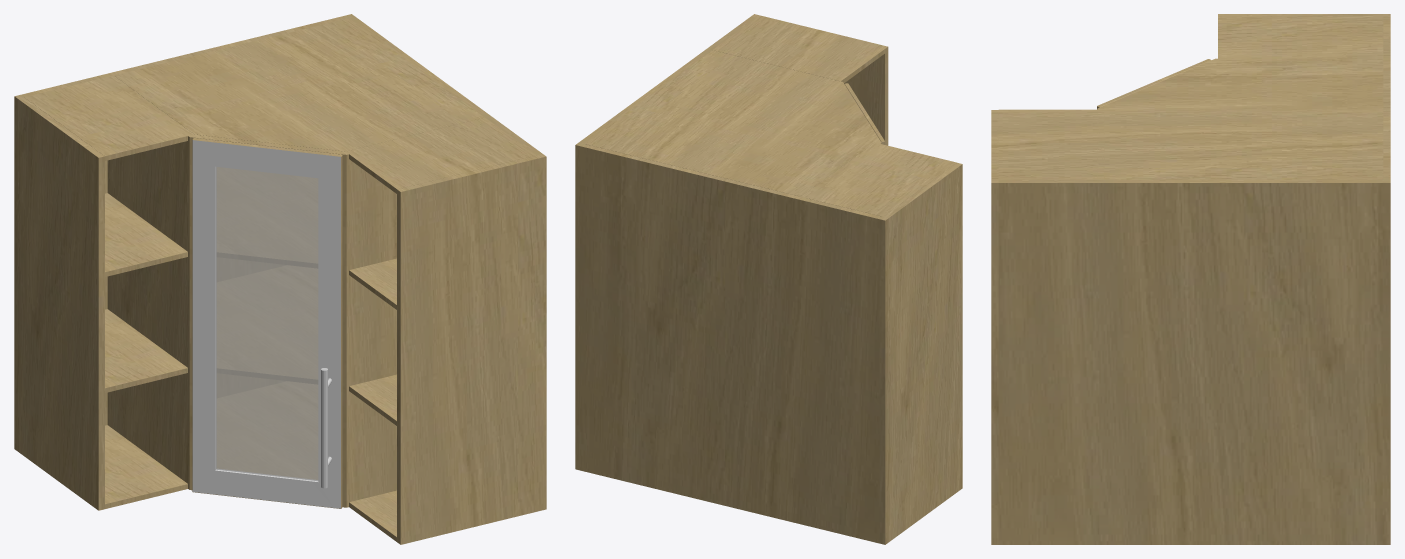
Rendered from sh-bs0-upper-corner-cabinet.glb.
The picture shows the model from 3 angles, left to right: view 1: azimuth 30°, elevation 25°; view 2: azimuth 150°, elevation 25°; view 3: azimuth 270°, elevation 25°; orthographic projection. The views are drawn at different scales.
Parts seen in each view (by area): view 1: Cube.014_Cube.013; view 2: Cube.014_Cube.013; view 3: Cube.014_Cube.013.
Boxes of the visible parts, left/top/right/bottom form: Cube.014_Cube.013: left=14, top=14, right=546, bottom=544; Cube.014_Cube.013: left=575, top=14, right=962, bottom=544; Cube.014_Cube.013: left=991, top=14, right=1390, bottom=544.
Bounding box in the file's own units: 1 × 1 × 1.
Materials: 4 (1 with a texture image).
